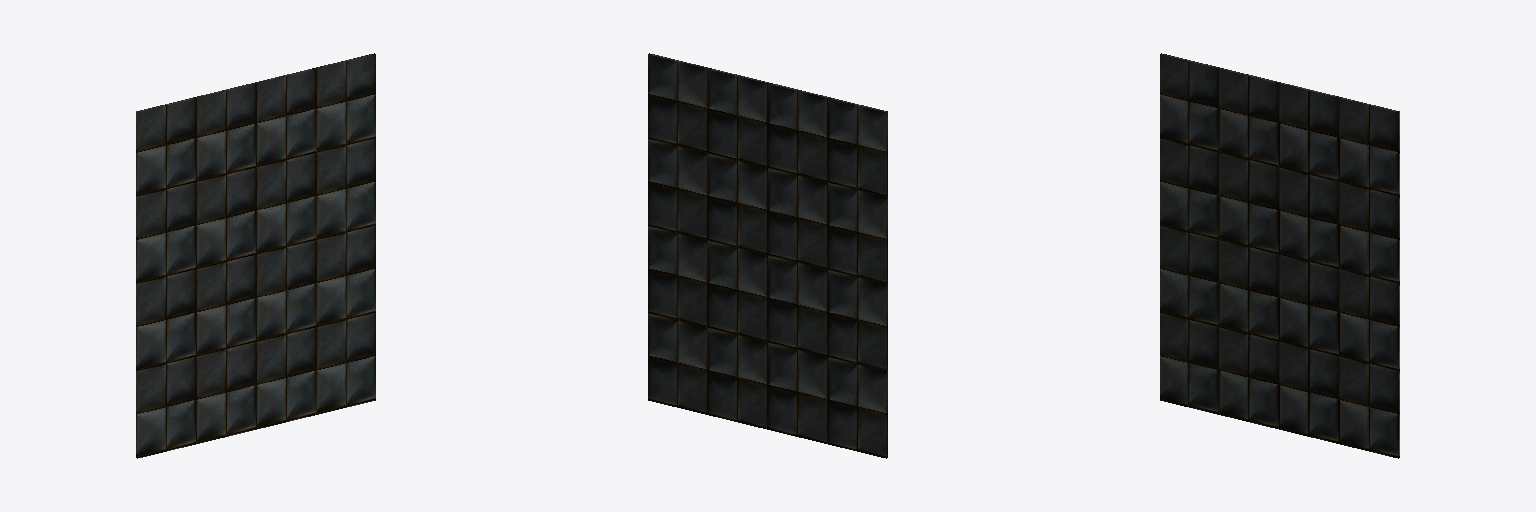
The picture shows the model from 3 angles: view 1: azimuth 30°, elevation 25°; view 2: azimuth 150°, elevation 25°; view 3: azimuth 330°, elevation 25°; orthographic projection.
Visible parts, largest first — view 1: wall_5; view 2: wall_5; view 3: wall_5.
Part boxes in pixels (x1,y1,x2,y2): wall_5: (136, 53, 375, 458); wall_5: (648, 53, 887, 458); wall_5: (1160, 53, 1399, 458).
Size of the model in its own units: 14.43 by 20 by 0.1505.
1 materials, 1 textured.